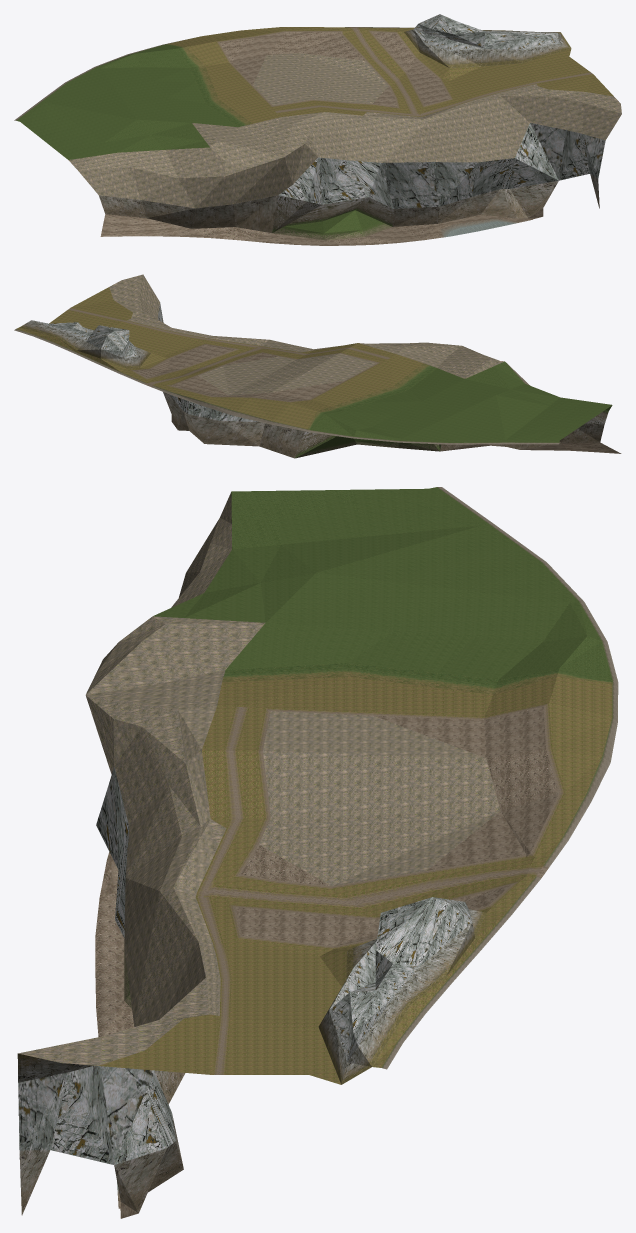
File: cuntwland15b.obj
3 renders of one model, top to bottom at view 1: azimuth 30°, elevation 25°; view 2: azimuth 150°, elevation 25°; view 3: azimuth 270°, elevation 25°, orthographic. The views are drawn at different scales.
Parts seen in each view (by area): view 1: cuntwland15b; view 2: cuntwland15b; view 3: cuntwland15b.
Boxes of the visible parts, left/top/right/bottom form: cuntwland15b: left=14, top=14, right=621, bottom=245; cuntwland15b: left=14, top=274, right=621, bottom=458; cuntwland15b: left=17, top=487, right=618, bottom=1218.
Size of the model in its own units: 404 by 111 by 197.
Materials: 15 (15 with a texture image).
